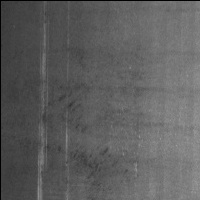scratches: (36, 7, 51, 200)
